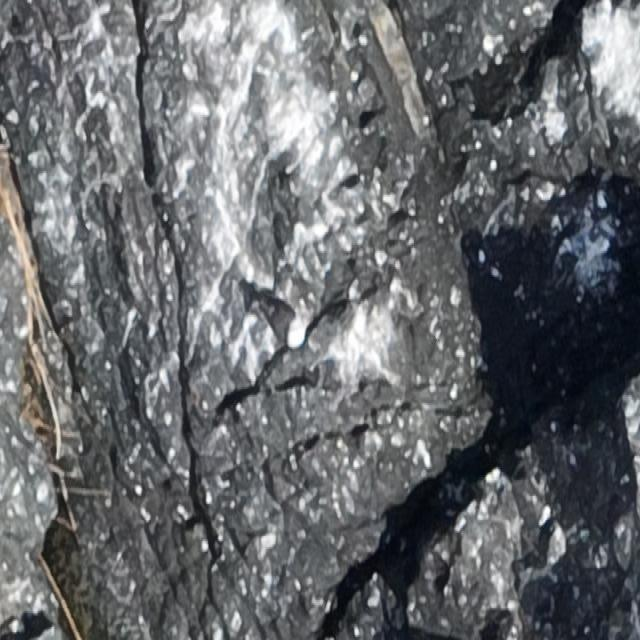umineko: (262, 294, 305, 347)
